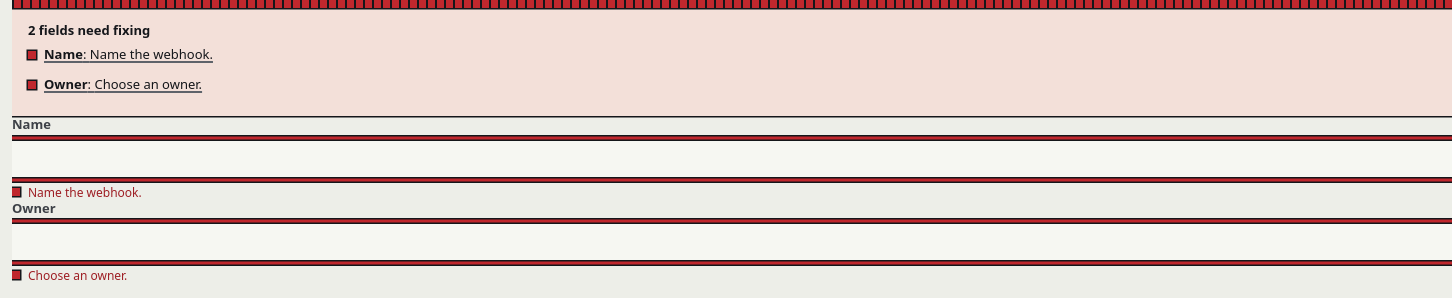
Form with FormErrorSummary › shrinks as fields are fixed, without taking focus, and goes when the last is fixed
Expected: the element "2 fields need fixing" is shown, [12,0,1451,116]
Type "a" into the field labelled "Name" at (732, 158), box [26,140,1438,176]
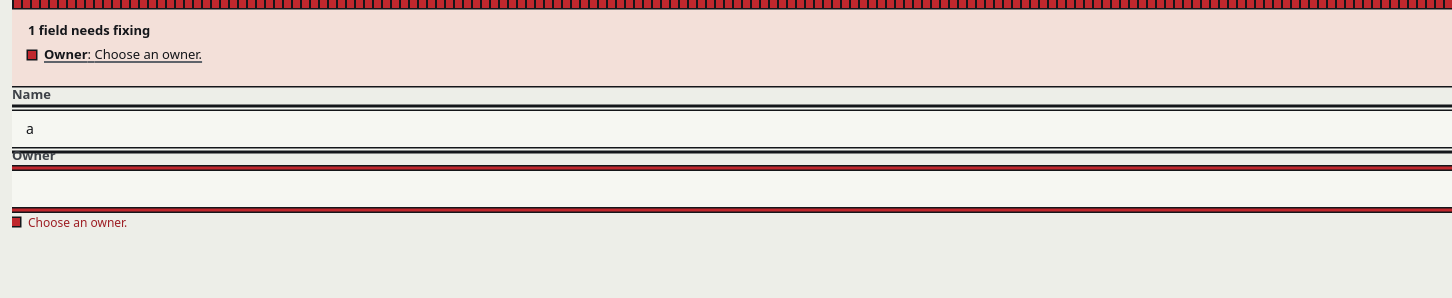
Expected: the element "1 field needs fixing" is shown, [12,0,1451,86]
